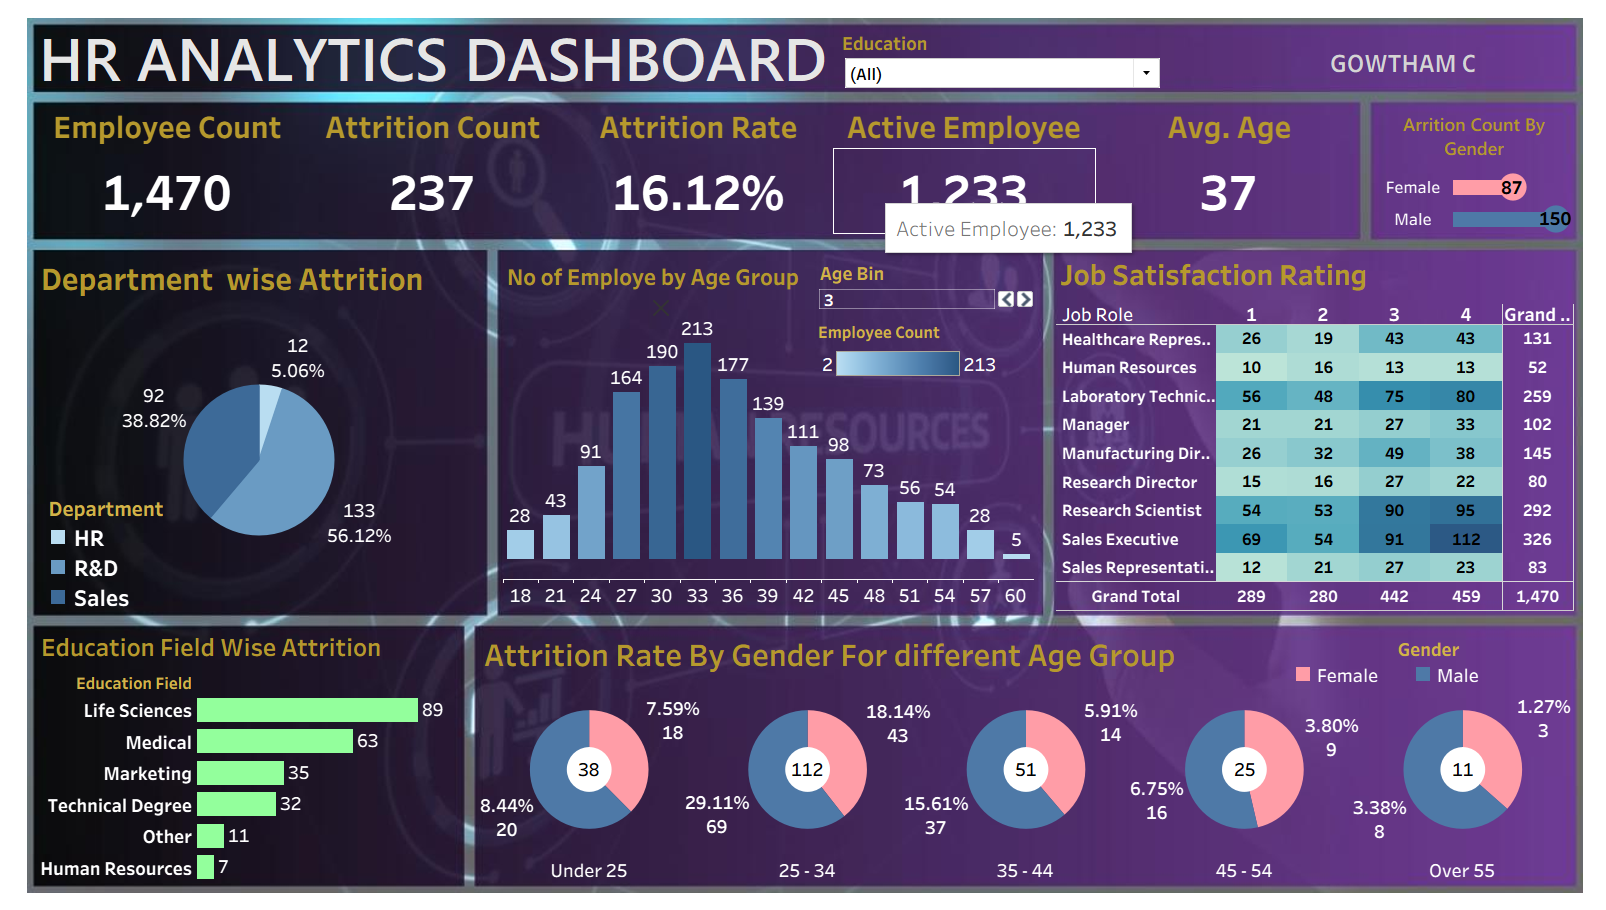

Layout of this report page (visuals, bound fields, positions):
{"tool":"tableau","page":{"name":"HR Dashboard","canvas":[1580,900],"ordinal":0},"visuals":[{"type":"image","param":"Image/HR background.pptx.jpg","box":[8,8,1564,884]},{"type":"text","box":[20,21,1034,59]},{"type":"filter","title":"Attrition Rate By Gender For different Age Group","param":"[federated.1gdhokv1ll7tlb19x3px11u3cdyb].[none:Education:nk]","box":[827,24,321,60]},{"type":"text","box":[1228,36,320,40]},{"type":"worksheet","title":"KPI","mark":"Automatic","box":[20,100,1327,129]},{"type":"worksheet","title":"Attrition by Gender","mark":"Automatic","rows":["Gender"],"cols":["Calculation_1355182817632256","Calculation_1355182817632256"],"box":[1358,102,202,127]},{"type":"worksheet","title":"Job Satisfication Rating","mark":"Square","rows":["Job Role"],"cols":["Job Satisfaction"],"box":[1041,245,518,360]},{"type":"worksheet","title":"Department  wise Attrition","mark":"Pie","box":[22,247,444,358]},{"type":"worksheet","title":"No of Employe by Age Group","mark":"Automatic","rows":["Employee Count"],"cols":["Age (bin)"],"box":[488,251,531,351]},{"type":"parameter","param":"[Parameters].[Parameter 1185033507786752]","box":[801,254,220,52]},{"type":"dashboard-object","box":[634,290,24,24]},{"type":"legend","title":"No of Employe by Age Group","param":"[federated.1gdhokv1ll7tlb19x3px11u3cdyb].[sum:Employee Count:qk]","box":[803,315,183,55]},{"type":"legend","title":"Department  wise Attrition","param":"[federated.1gdhokv1ll7tlb19x3px11u3cdyb].[none:Department:nk]","box":[28,488,126,118]},{"type":"worksheet","title":"Education Field Wise Attrition","mark":"Automatic","rows":["Education Field"],"cols":["Calculation_1355182817632256"],"box":[22,620,423,257]},{"type":"worksheet","title":"Attrition Rate By Gender For different Age Group","mark":"Pie","rows":["Calculation_1185033525518340","Calculation_1185033525518340"],"cols":["CF_age band"],"box":[465,623,1092,254]},{"type":"legend","title":"Attrition Rate By Gender For different Age Group","param":"[federated.1gdhokv1ll7tlb19x3px11u3cdyb].[none:Gender:nk]","box":[1276,630,275,51]}]}

Visuals, with their boxes in screenshot pixels (x1, y1, x2, y2), scaled from the page's 1580x900 canvas onto the 1606x910 screenshot:
image: <region>8, 8, 1598, 902</region>
text: <region>20, 21, 1071, 81</region>
"Attrition Rate By Gender For different Age Group" filter: <region>841, 24, 1167, 85</region>
text: <region>1248, 36, 1573, 77</region>
"KPI" worksheet: <region>20, 101, 1369, 232</region>
"Attrition by Gender" worksheet: <region>1380, 103, 1586, 232</region>
"Job Satisfication Rating" worksheet (Square marks): <region>1058, 248, 1585, 612</region>
"Department  wise Attrition" worksheet (Pie marks): <region>22, 250, 474, 612</region>
"No of Employe by Age Group" worksheet: <region>496, 254, 1036, 609</region>
parameter: <region>814, 257, 1038, 309</region>
dashboard-object: <region>644, 293, 669, 317</region>
"No of Employe by Age Group" legend: <region>816, 318, 1002, 374</region>
"Department  wise Attrition" legend: <region>28, 493, 157, 613</region>
"Education Field Wise Attrition" worksheet: <region>22, 627, 452, 887</region>
"Attrition Rate By Gender For different Age Group" worksheet (Pie marks): <region>473, 630, 1583, 887</region>
"Attrition Rate By Gender For different Age Group" legend: <region>1297, 637, 1577, 689</region>
